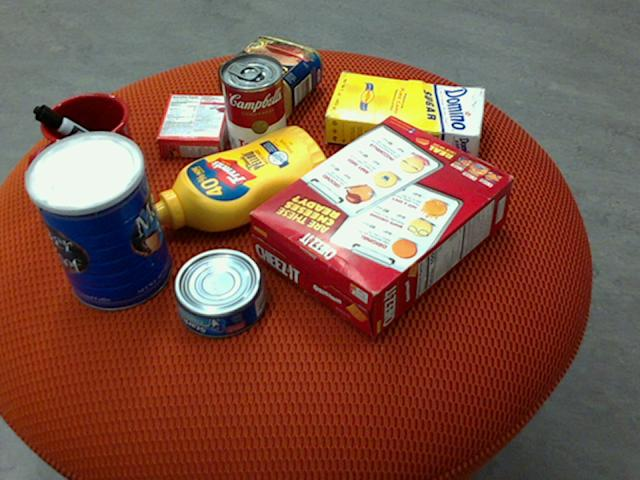cracker_box: (249, 114, 515, 336)
gelatin_box: (155, 92, 232, 156)
large_marker: (33, 104, 135, 172)
master_chef_can: (22, 131, 172, 310)
mug: (32, 92, 138, 197)
mustard_bottle: (144, 125, 332, 231)
potted_meat_can: (218, 36, 323, 119)
sugar_box: (325, 72, 487, 159)
tomato_soup_can: (220, 51, 287, 161)
tuna_fish_can: (173, 249, 267, 339)
